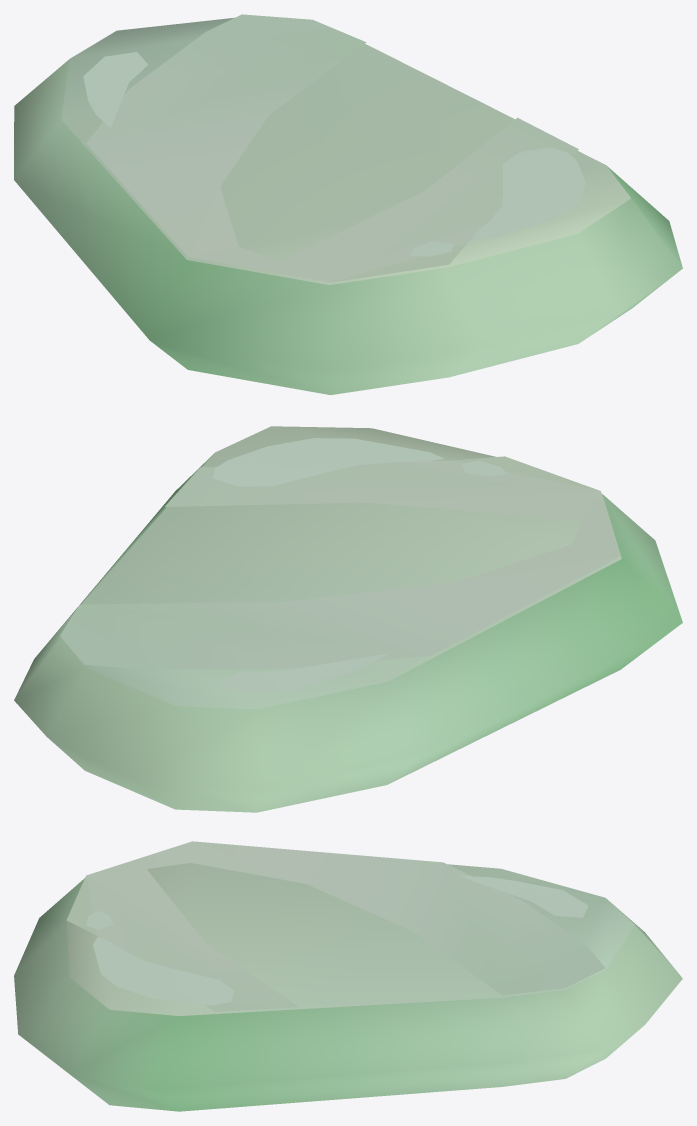
Rendered from SeaGlass.glb.
The picture shows the model from 3 angles, top to bottom: view 1: azimuth 30°, elevation 25°; view 2: azimuth 150°, elevation 25°; view 3: azimuth 270°, elevation 25°; orthographic projection. The views are drawn at different scales.
Visible parts, largest first — view 1: SeaGlass; view 2: SeaGlass; view 3: SeaGlass.
Part boxes in pixels (x1,y1,x2,y2): SeaGlass: [14, 14, 682, 395]; SeaGlass: [14, 426, 682, 812]; SeaGlass: [14, 841, 682, 1111].
Size of the model in its own units: 0.5947 by 0.1294 by 0.7796.
